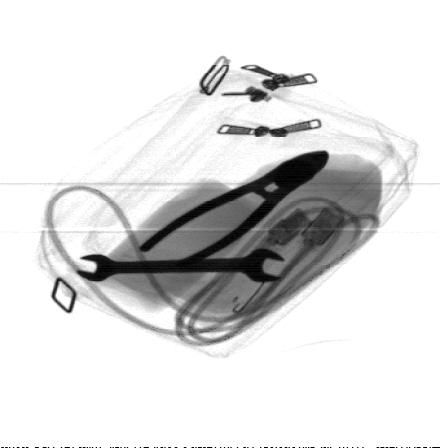Pliers: (139, 150, 330, 271)
Wrench: (75, 247, 288, 283)
